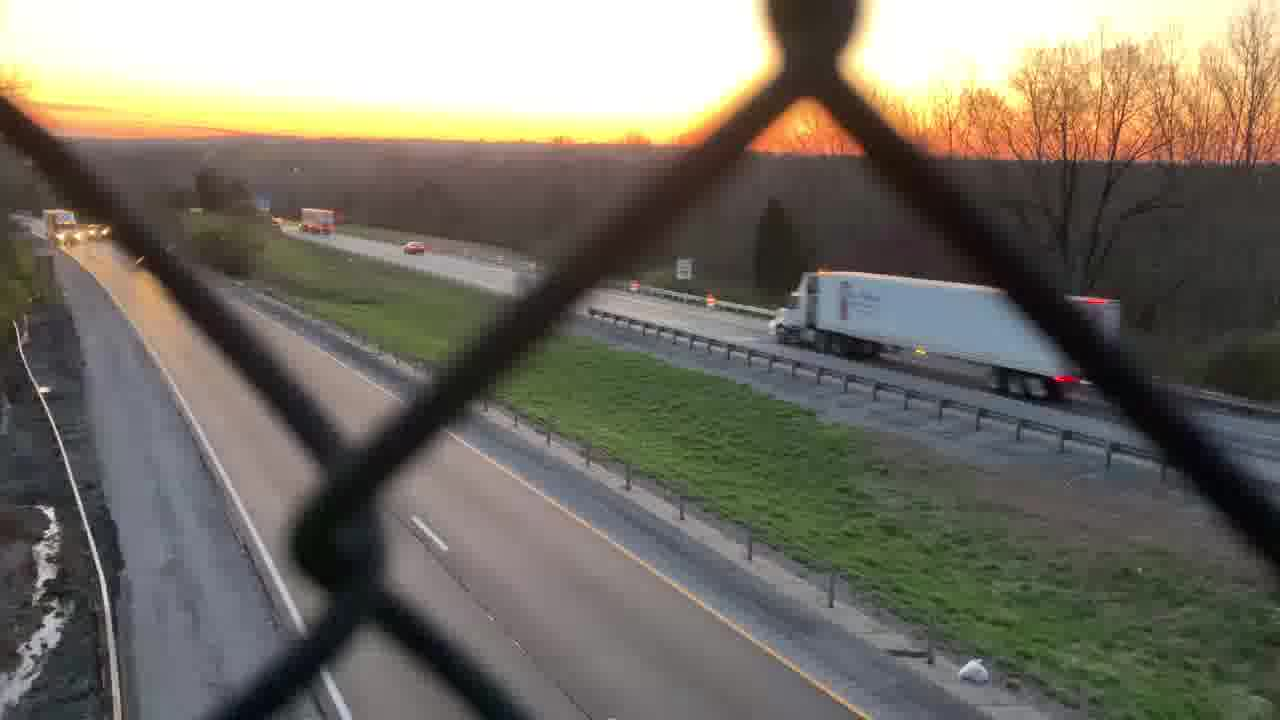heavyTruck: (766, 254, 1120, 400), (295, 203, 339, 234)
smallCar: (400, 237, 425, 253)
